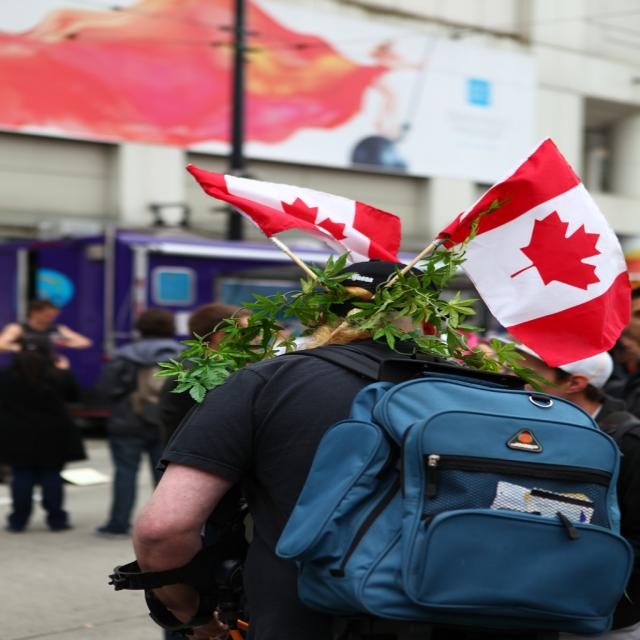backpack: (244, 328, 632, 618)
